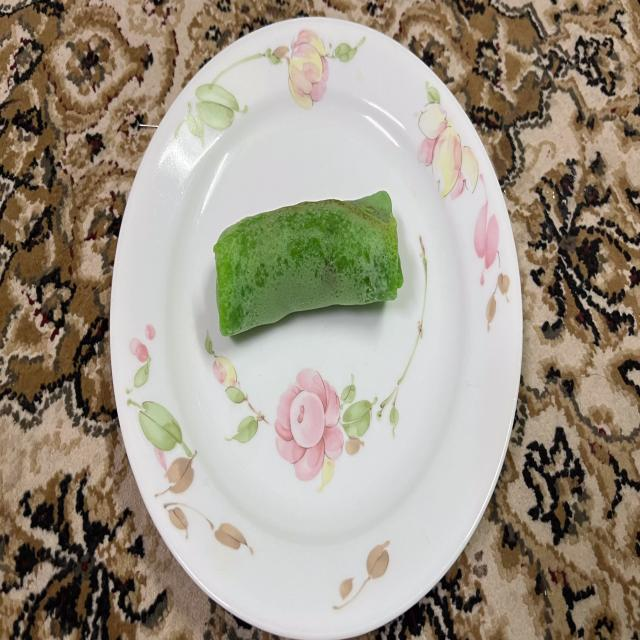Kuih-Ketayap: (214, 191, 402, 336)
